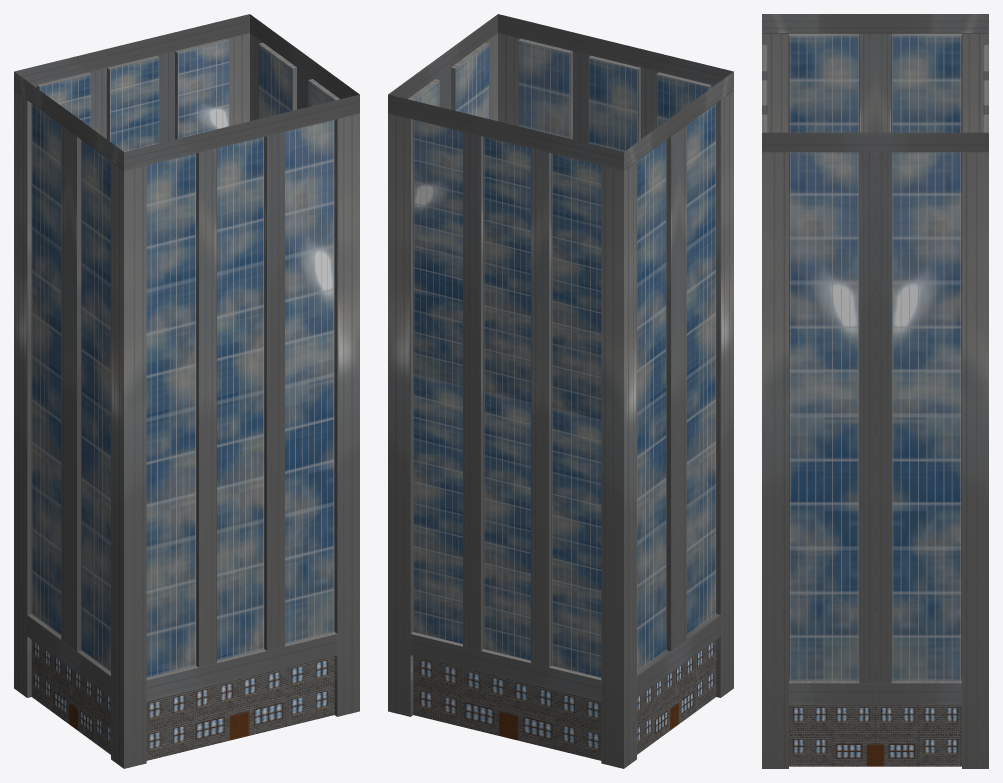
Rendered from Building - 2.obj.
The picture shows the model from 3 angles, left to right: view 1: azimuth 30°, elevation 25°; view 2: azimuth 150°, elevation 25°; view 3: azimuth 270°, elevation 25°; orthographic projection. The views are drawn at different scales.
Visible parts, largest first — view 1: Box01; view 2: Box01; view 3: Box01.
Boxes of the visible parts, x1=… form: Box01: x1=14, y1=14, x2=359, y2=768; Box01: x1=388, y1=14, x2=733, y2=768; Box01: x1=762, y1=14, x2=988, y2=768.
Size of the model in its own units: 26 by 65 by 21.
